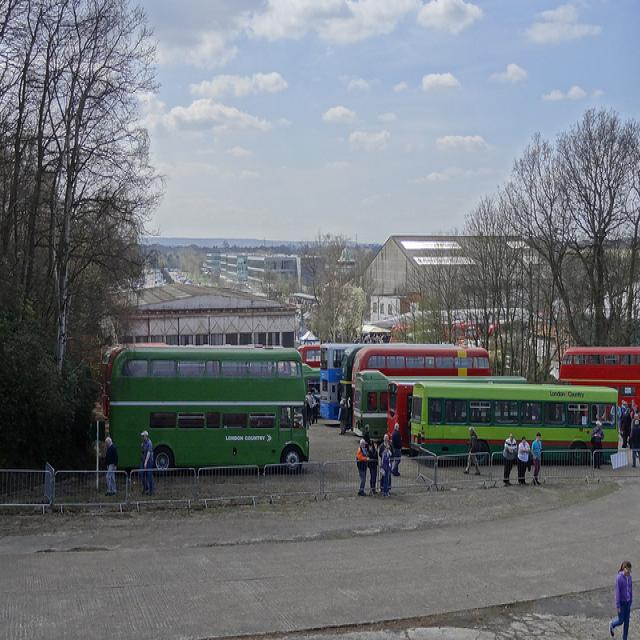Vehicle: (103, 343, 309, 473), (410, 386, 618, 456), (341, 342, 493, 431), (353, 375, 525, 437), (320, 342, 406, 418), (559, 346, 640, 407), (388, 380, 414, 448), (297, 344, 323, 369)
